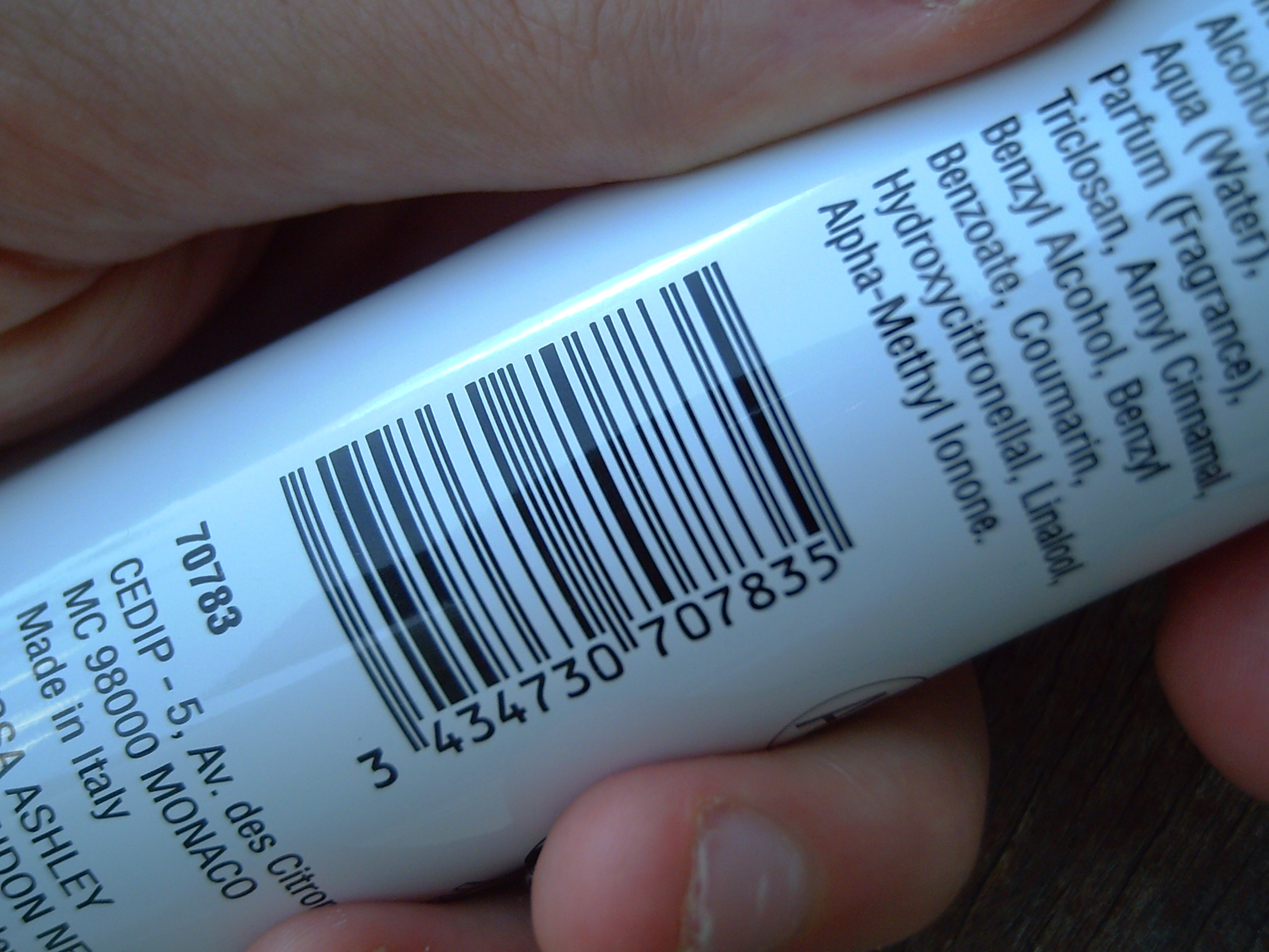Barkod: (237, 231, 916, 812)
